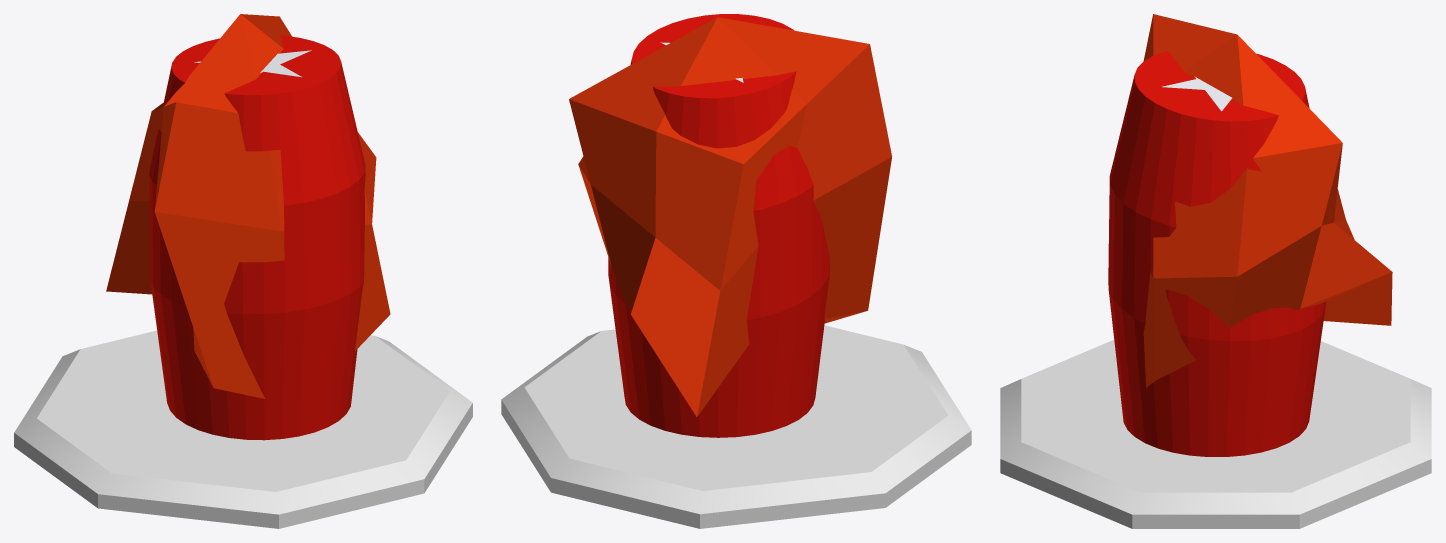
File: OneRandom.fbx
3 renders of one model, left to right at view 1: azimuth 30°, elevation 25°; view 2: azimuth 150°, elevation 25°; view 3: azimuth 270°, elevation 25°, orthographic. The views are drawn at different scales.
Visible parts, largest first — view 1: Cube.001, Text.001, Cube; view 2: Cube, Cube.001, Text.001; view 3: Text.001, Cube.001, Cube.
Part boxes in pixels (x1=…): Cube.001: x1=14, y1=330, x2=472, y2=528; Text.001: x1=149, y1=35, x2=365, y2=440; Cube: x1=106, y1=14, x2=390, y2=398; Cube: x1=569, y1=17, x2=891, y2=416; Cube.001: x1=501, y1=325, x2=971, y2=528; Text.001: x1=608, y1=14, x2=829, y2=437; Text.001: x1=1108, y1=51, x2=1325, y2=456; Cube.001: x1=1000, y1=340, x2=1431, y2=528; Cube: x1=1143, y1=14, x2=1392, y2=387.
Size of the model in its own units: 58.58 by 66.69 by 58.58.
